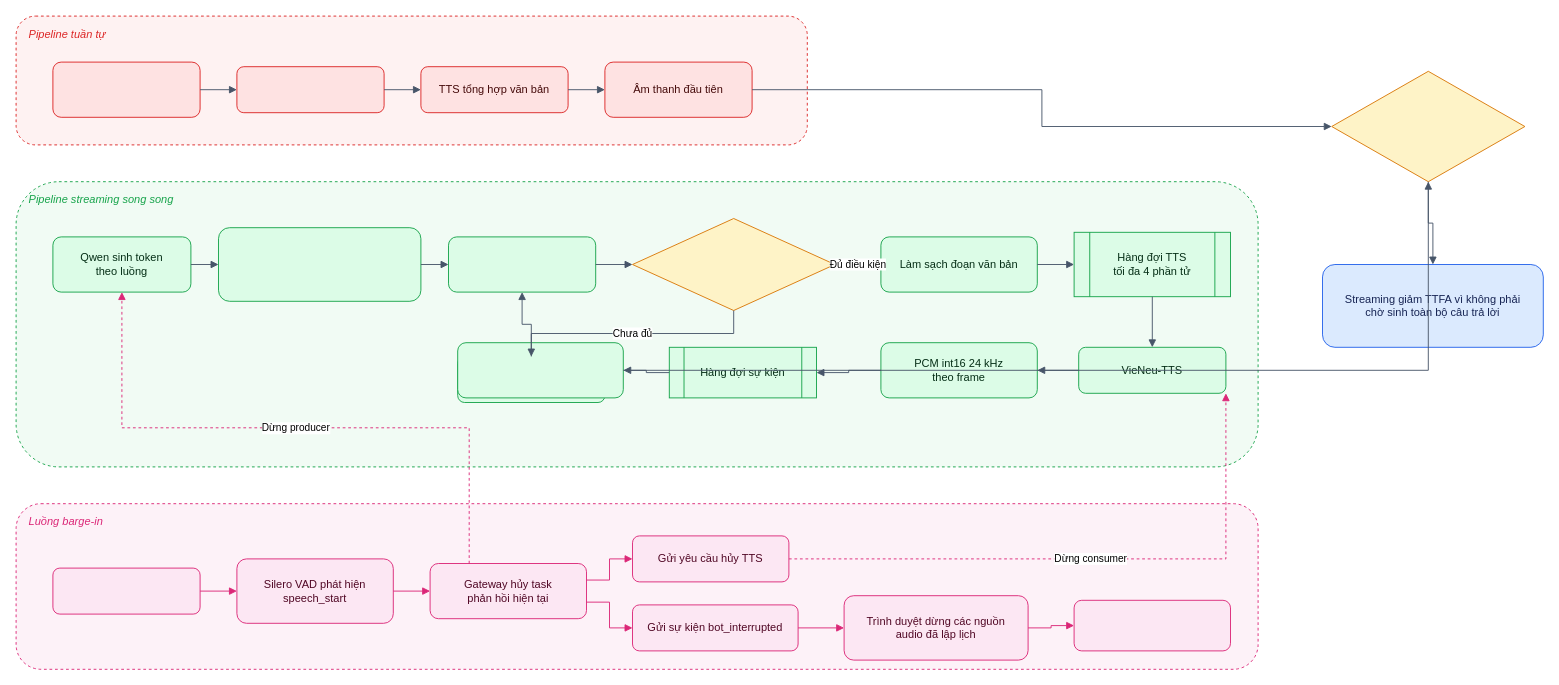
The diagram is 1559 pixels wide and 685 high, and some of its shapes have lost their labels. Here are the shapes that lost their labels. From the top down, the centre of each, then its label:
(x=126, y=89): LLM sinh toàn bộ câu trả lời
(x=310, y=89): Văn bản hoàn chỉnh
(x=1428, y=126): So sánh thời gian đến âm thanh đầu tiên
(x=319, y=264): Brain gom token thành text chunk ngưỡng xử lý 40 ký tự
(x=522, y=264): Gateway cộng dồn text chunk
(x=733, y=264): Gặp dấu câu sau 40 ký tự hoặc buffer đạt 200 ký tự?
(x=540, y=370): Trình duyệt lập lịch phát nối tiếp
(x=126, y=590): Người dùng bắt đầu nói
(x=1151, y=625): Thu nhận lượt nói mới
